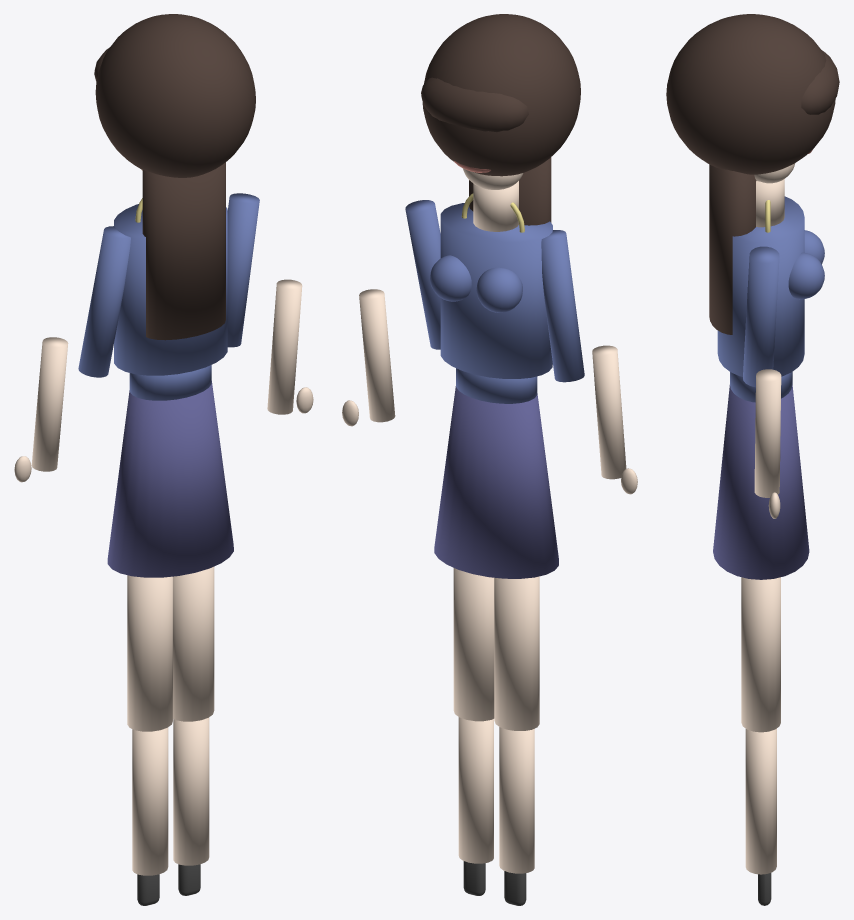
File: female_character.glb
The picture shows the model from 3 angles, left to right: view 1: azimuth 30°, elevation 25°; view 2: azimuth 150°, elevation 25°; view 3: azimuth 270°, elevation 25°; orthographic projection.
Visible parts, largest first — view 1: 头发后部, 裙子, 长发, 上衣, 左大腿, 右大腿, 右小腿, 左小腿, 左上臂, 右上臂, 右前臂, 左前臂 (+3 smaller); view 2: 裙子, 头发后部, 上衣, 左大腿, 右大腿, 左小腿, 右小腿, 左上臂, 刘海, 右前臂, 左前臂, 右上臂 (+8 smaller); view 3: 头发后部, 裙子, 上衣, 右大腿, 长发, 右小腿, 右上臂, 右前臂, 刘海, 右胸, 脖子, 腰部 (+3 smaller).
Boxes of the visible parts, x1,y1,x2,y2 form: 头发后部: (95, 14, 255, 177); 裙子: (107, 381, 233, 577); 长发: (142, 162, 225, 340); 上衣: (114, 204, 227, 375); 左大腿: (127, 575, 172, 731); 右大腿: (173, 566, 214, 721); 右小腿: (173, 717, 209, 865); 左小腿: (132, 727, 168, 875); 左上臂: (78, 226, 130, 377); 右上臂: (227, 193, 259, 347); 右前臂: (267, 279, 302, 414); 左前臂: (31, 337, 68, 471); 裙子: (434, 386, 558, 578); 头发后部: (422, 14, 580, 176); 上衣: (440, 203, 552, 378); 左大腿: (494, 576, 539, 730); 右大腿: (453, 568, 494, 721); 左小腿: (499, 727, 534, 873); 右小腿: (458, 717, 493, 863); 左上臂: (541, 230, 584, 382); 刘海: (421, 77, 528, 132); 右前臂: (359, 289, 395, 422); 左前臂: (592, 345, 626, 479); 右上臂: (405, 200, 440, 349); 头发后部: (666, 14, 835, 174); 裙子: (713, 385, 809, 579); 上衣: (717, 196, 804, 376); 右大腿: (741, 577, 780, 732); 长发: (709, 164, 756, 334); 右小腿: (745, 728, 776, 874); 右上臂: (743, 246, 779, 387); 右前臂: (754, 369, 781, 497); 刘海: (801, 50, 839, 114); 右胸: (788, 252, 824, 299); 脖子: (756, 179, 784, 227); 腰部: (730, 372, 792, 402).
Size of the model in its own units: 0.508 by 1.44 by 0.2585.
